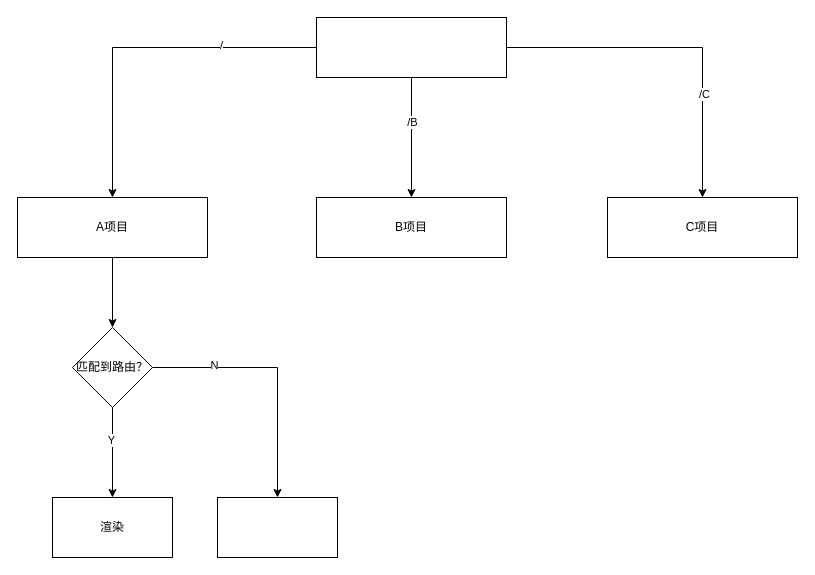
Some shapes in this 815 by 575 pixel diagram are drawn without their labels. The box of each missing label's shape, as (x1, y1, x2, y2) in pixels:
nginx: (316, 16, 506, 78)
转发到后端: (216, 496, 338, 558)
